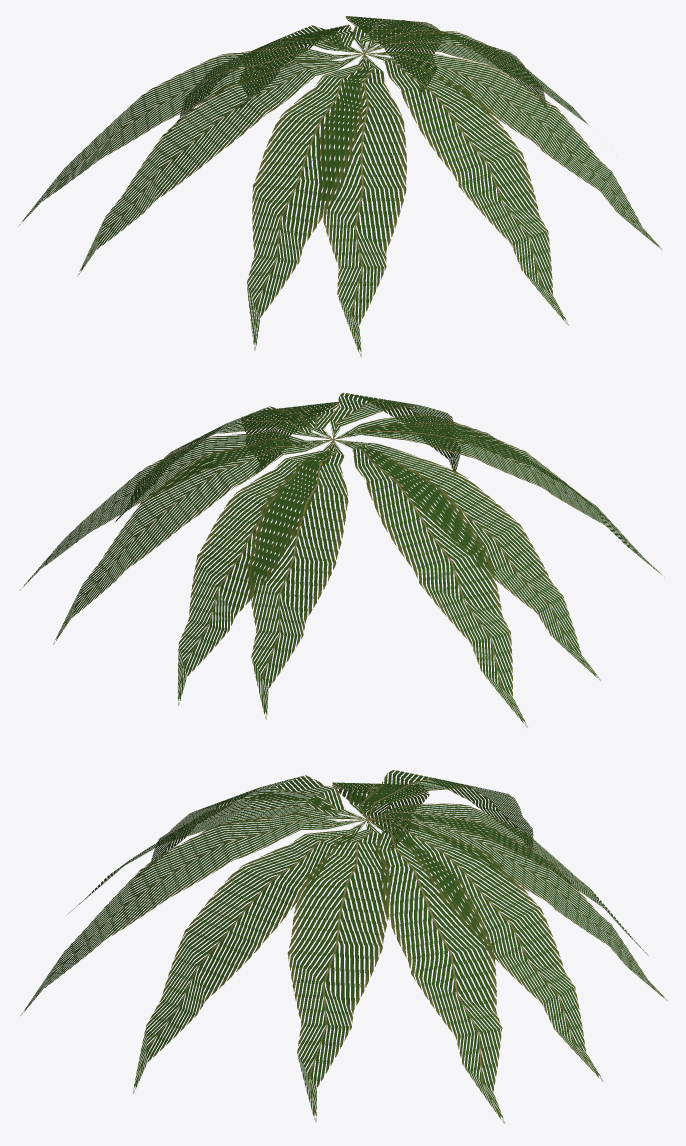
File: SM_Art_Veg_Palm_1_Frond.gltf
3 renders of one model, top to bottom at view 1: azimuth 30°, elevation 25°; view 2: azimuth 150°, elevation 25°; view 3: azimuth 270°, elevation 25°, orthographic. The views are drawn at different scales.
Visible parts, largest first — view 1: SM_Art_Veg_Palm_1_Frond; view 2: SM_Art_Veg_Palm_1_Frond; view 3: SM_Art_Veg_Palm_1_Frond.
Part boxes in pixels (left/top/right/bottom): SM_Art_Veg_Palm_1_Frond: left=18, top=16, right=661, bottom=356; SM_Art_Veg_Palm_1_Frond: left=19, top=392, right=664, bottom=727; SM_Art_Veg_Palm_1_Frond: left=20, top=770, right=667, bottom=1123.
Bounding box in the file's own units: 6.02 × 1.82 × 5.97.
Materials: 1 (1 with a texture image).
